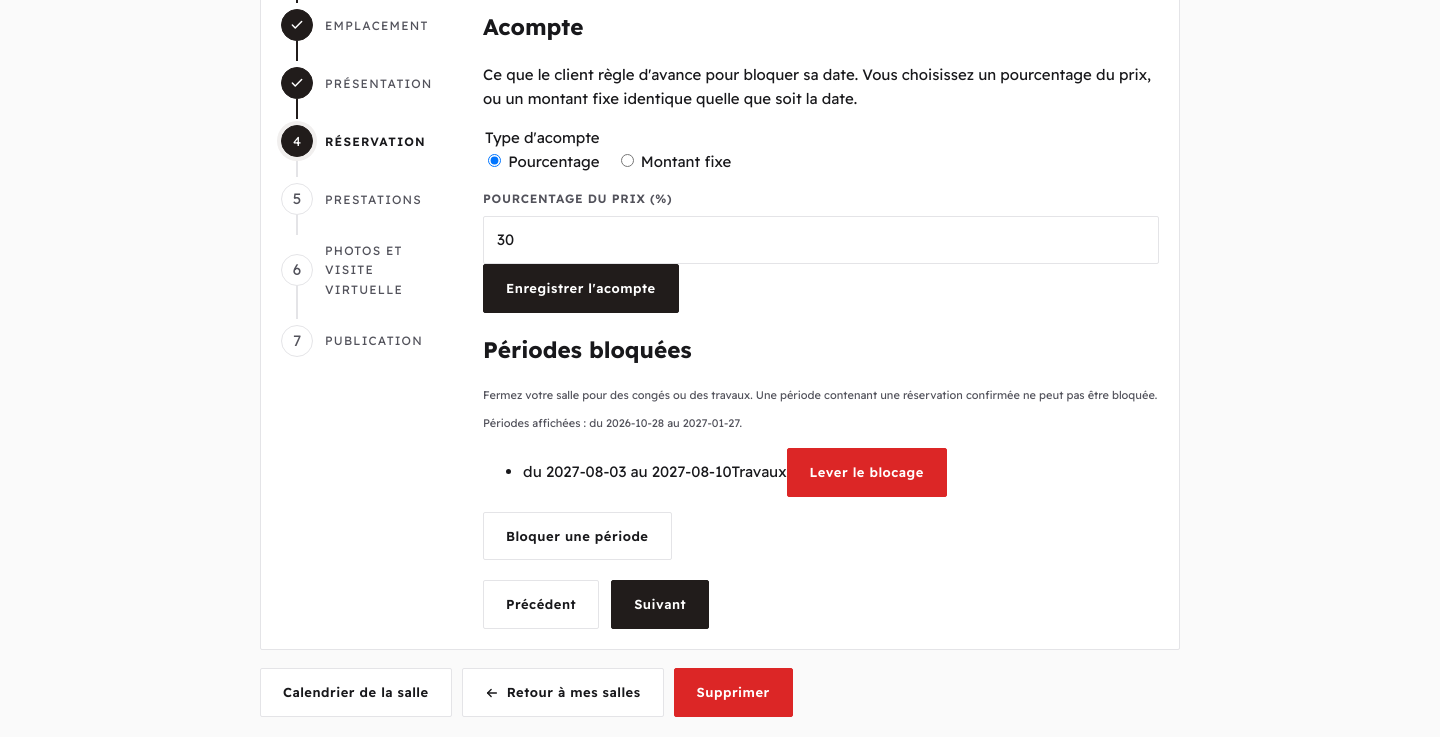
Test: Volet blocages — conflits et levée › lever un blocage le retire de la liste après confirmation
(page scrolled)
Click the button "Lever le blocage" at (867, 472), box x1=787 y1=448 x2=947 y2=497
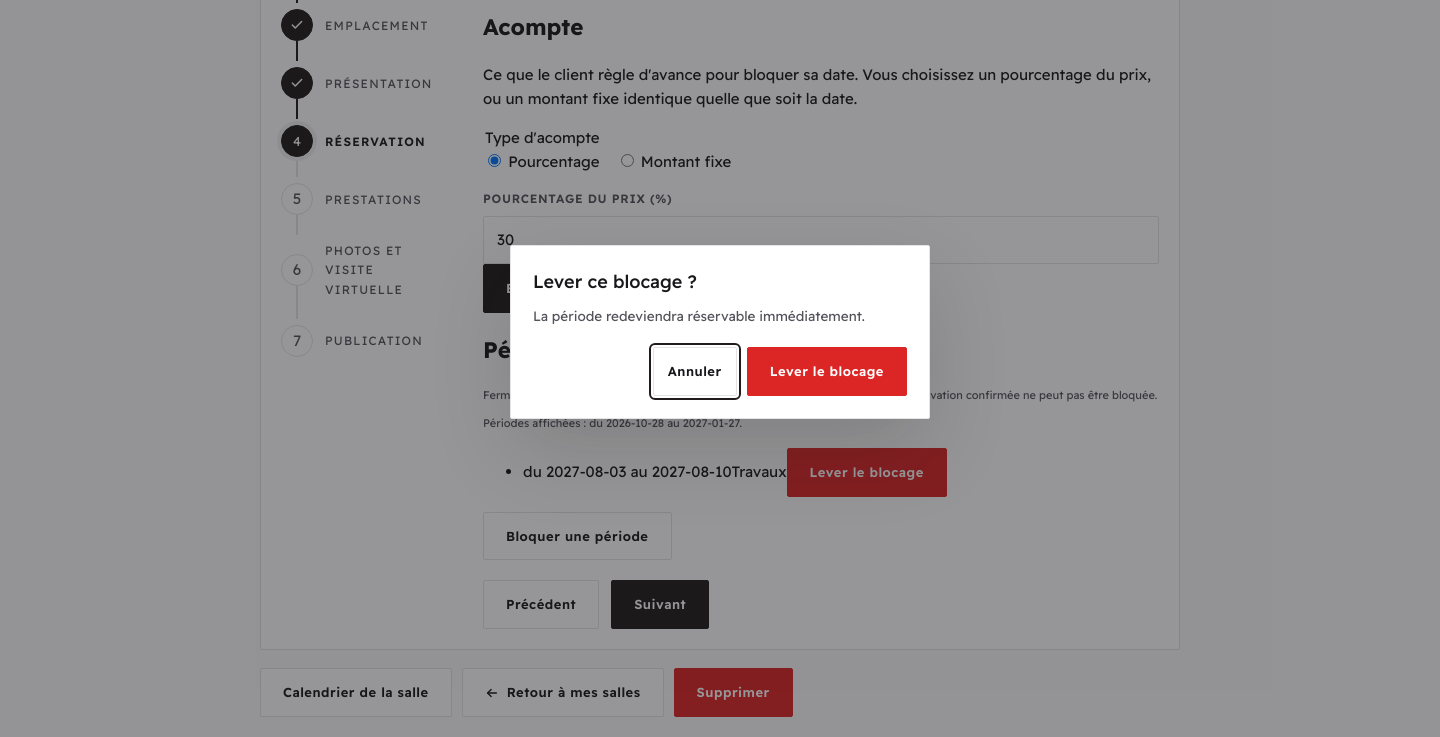
Click the button "Lever le blocage" at (827, 371), box x1=747 y1=347 x2=907 y2=396
(page scrolled)
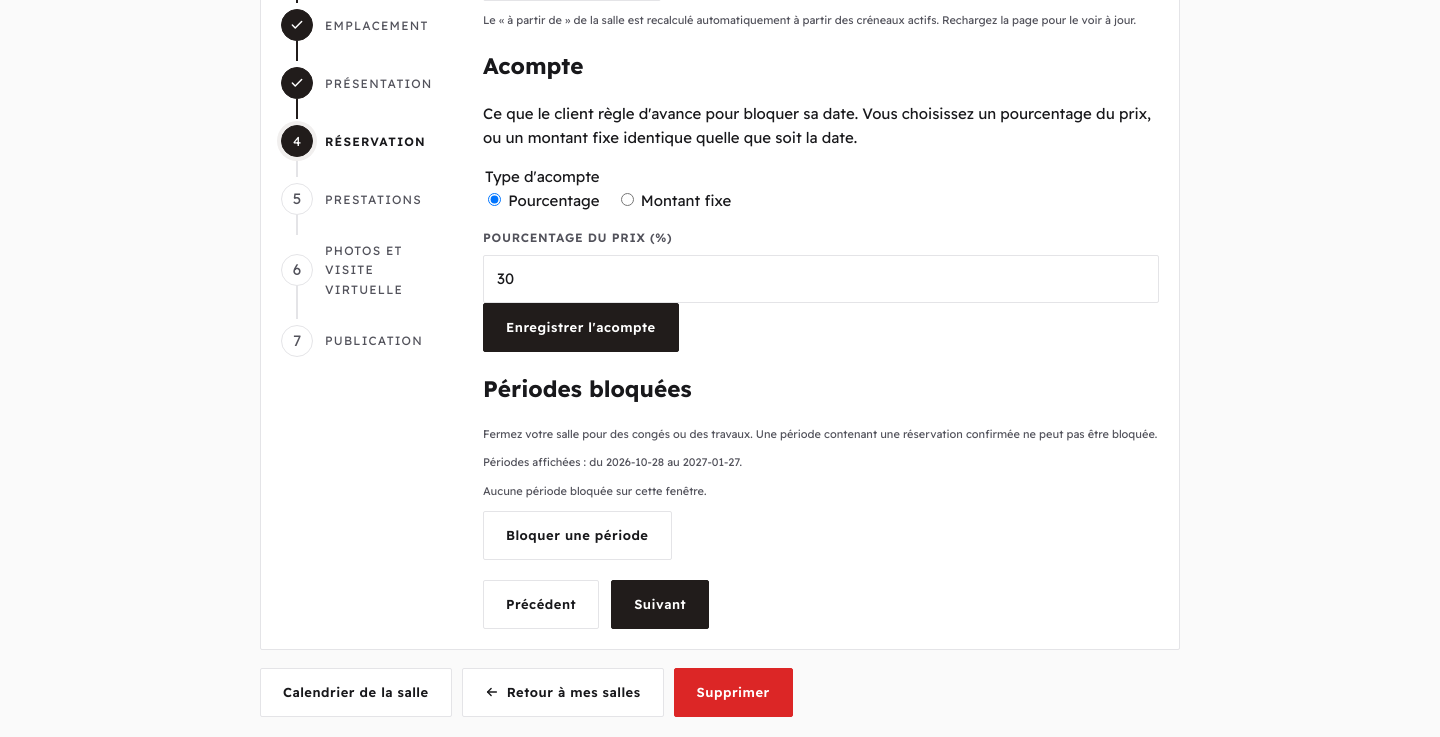
Expected: the element "Périodes bloquées" shows "Aucune période bloquée", x1=483 y1=484 x2=706 y2=498
